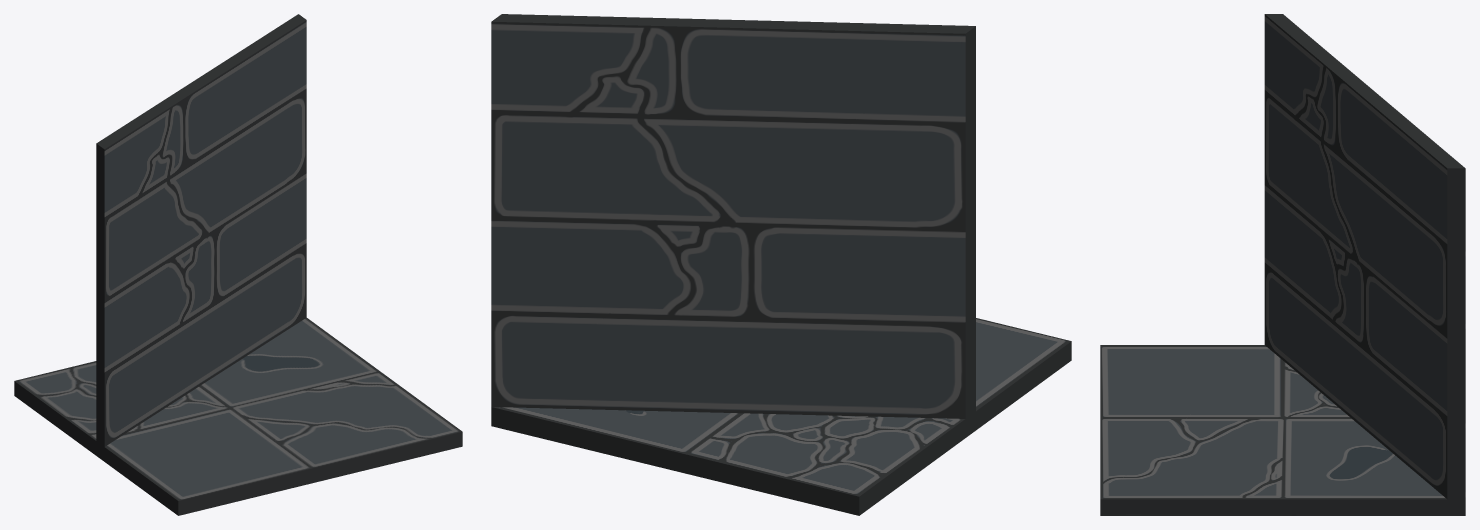
The model's file is Opening-LCURVE-NNW_v1.2.fbx.
3 views of the same model, side by side, from view 1: azimuth 30°, elevation 25°; view 2: azimuth 150°, elevation 25°; view 3: azimuth 270°, elevation 25° (orthographic). The views are drawn at different scales.
Parts seen in each view (by area): view 1: Wall-Curved-NNW; view 2: Wall-Curved-NNW; view 3: Wall-Curved-NNW.
Part boxes in pixels (x1,y1,x2,y2): Wall-Curved-NNW: (14,14,462,515); Wall-Curved-NNW: (491,14,1071,515); Wall-Curved-NNW: (1100,14,1465,515).
Bounding box in the file's own units: 100 × 100 × 105.
